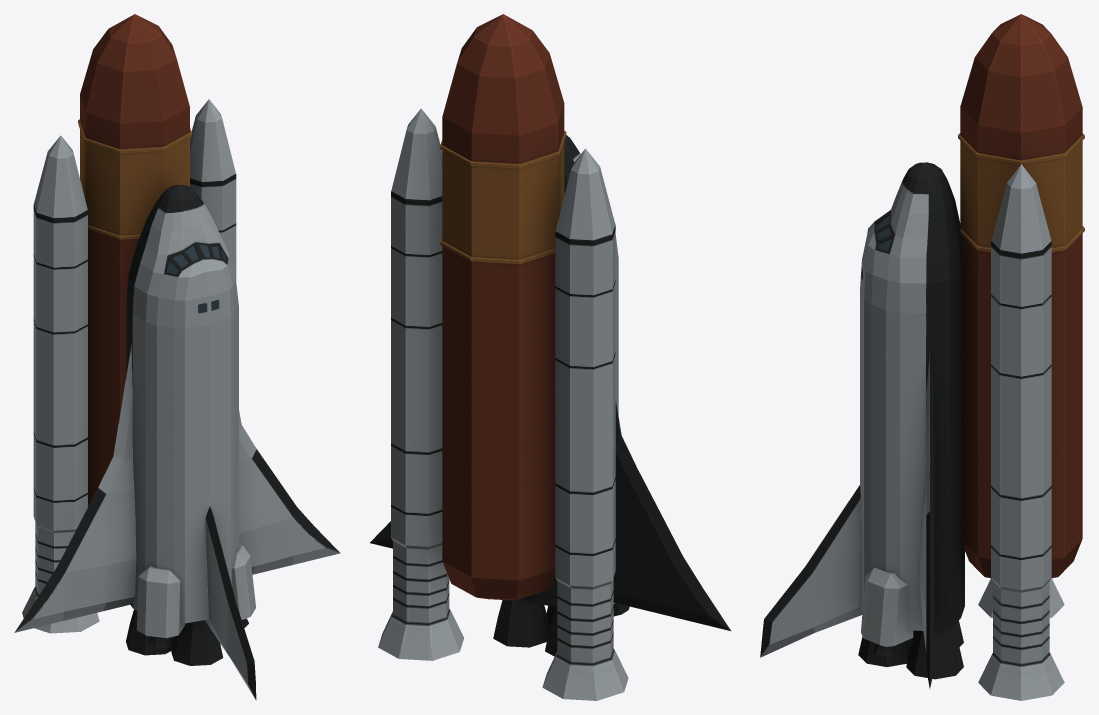
The picture shows the model from 3 angles, left to right: view 1: azimuth 30°, elevation 25°; view 2: azimuth 150°, elevation 25°; view 3: azimuth 270°, elevation 25°; orthographic projection. The views are drawn at different scales.
Visible parts, largest first — view 1: node-0; view 2: node-0; view 3: node-0.
Part boxes in pixels (x1,y1,x2,y2): node-0: (14,14,340,700); node-0: (370,14,730,700); node-0: (760,14,1084,700).
Bounding box in the file's own units: 22.39 × 39.2 × 17.92.
1 material, 1 textured.
